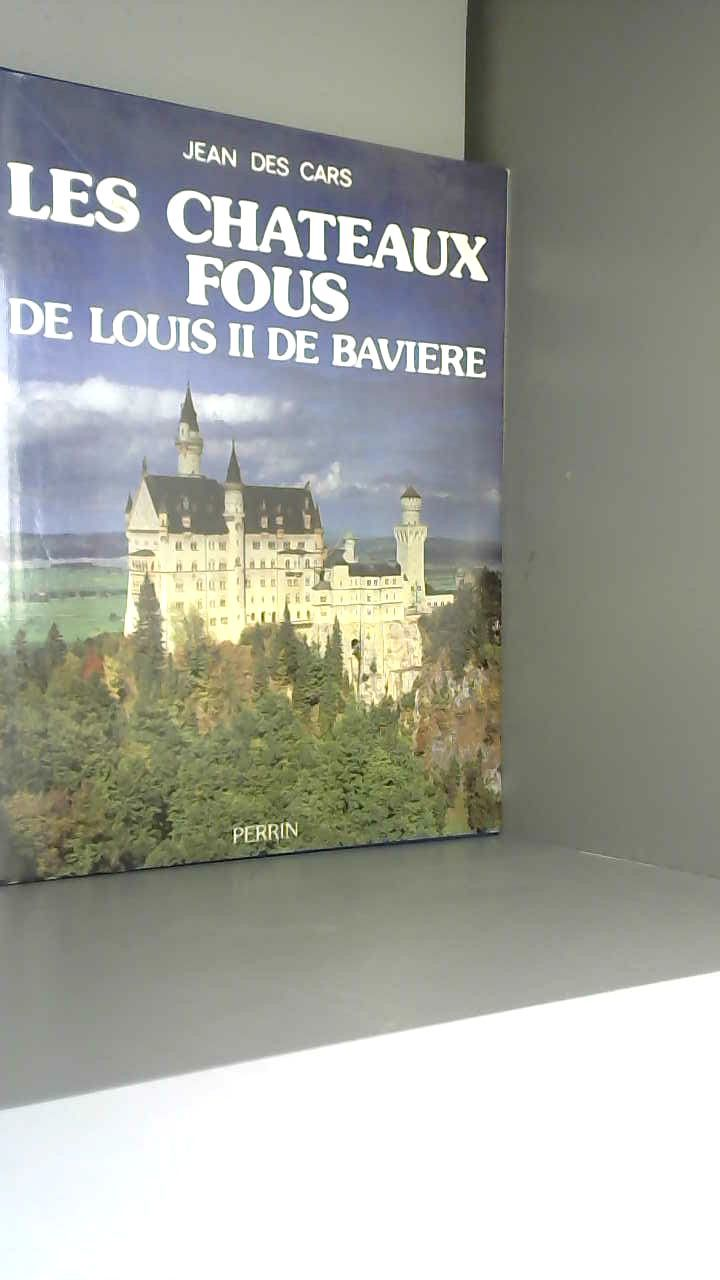book: (4, 50, 543, 912)
